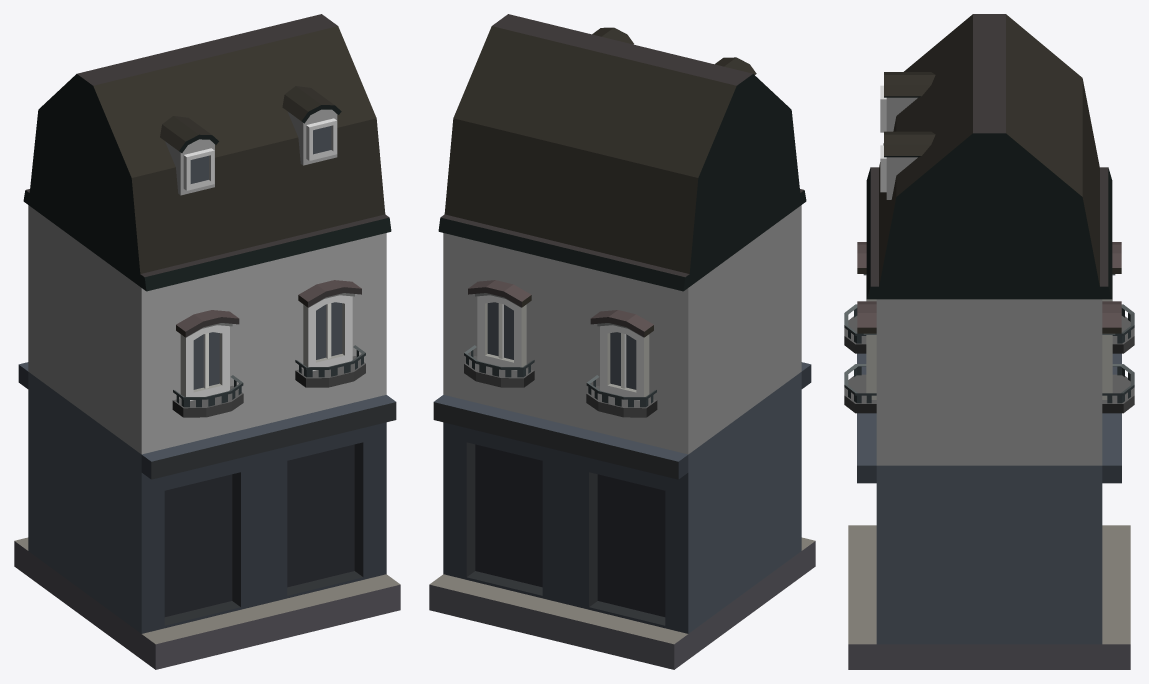
Rendered from TB_CITY_BD_R_Line_2_D.FBX.
3 views of the same model, side by side, from view 1: azimuth 30°, elevation 25°; view 2: azimuth 150°, elevation 25°; view 3: azimuth 270°, elevation 25° (orthographic).
Visible parts, largest first — view 1: TB_CITY_BD_R_Line_2_D; view 2: TB_CITY_BD_R_Line_2_D; view 3: TB_CITY_BD_R_Line_2_D.
Boxes of the visible parts, <box> form: TB_CITY_BD_R_Line_2_D: <box>14,14,400,669</box>; TB_CITY_BD_R_Line_2_D: <box>429,14,815,669</box>; TB_CITY_BD_R_Line_2_D: <box>844,14,1134,669</box>.
Bounding box in the file's own units: 7.99 × 16.78 × 8.22.
